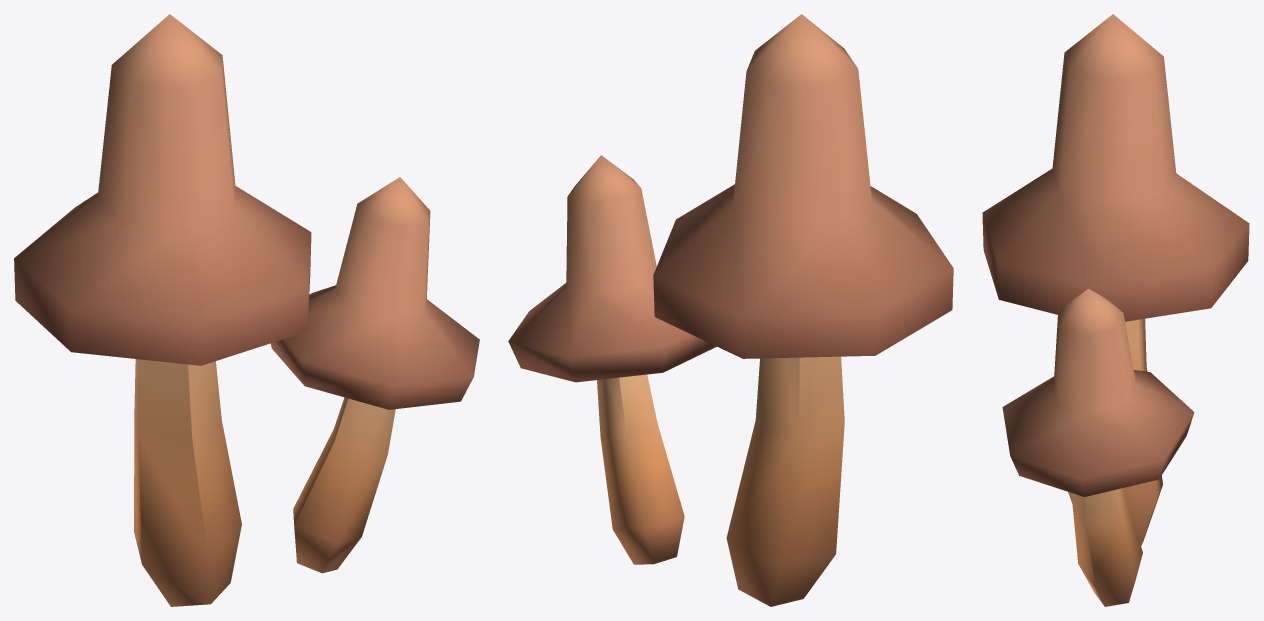
Rendered from mushroom_pointy_2.fbx.
The picture shows the model from 3 angles, left to right: view 1: azimuth 30°, elevation 25°; view 2: azimuth 150°, elevation 25°; view 3: azimuth 270°, elevation 25°; orthographic projection. The views are drawn at different scales.
Parts seen in each view (by area): view 1: mushroom_pointy_2.001; view 2: mushroom_pointy_2.001; view 3: mushroom_pointy_2.001.
Boxes of the visible parts, x1,y1,x2,y2 form: mushroom_pointy_2.001: (14,14,479,606); mushroom_pointy_2.001: (508,14,953,606); mushroom_pointy_2.001: (982,14,1249,606).
Size of the model in its own units: 0.401 by 0.5413 by 0.2506.
